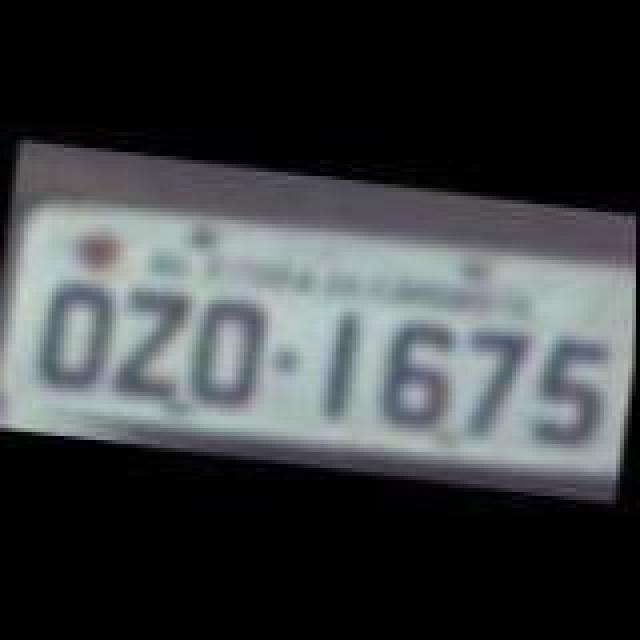1: (312, 306, 376, 422)
5: (528, 338, 620, 454)
6: (378, 314, 462, 434)
7: (452, 320, 536, 448)
O: (182, 290, 274, 410), (32, 274, 120, 390)
Z: (112, 286, 200, 406)
